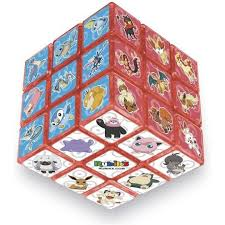cube: (14, 1, 208, 212)
